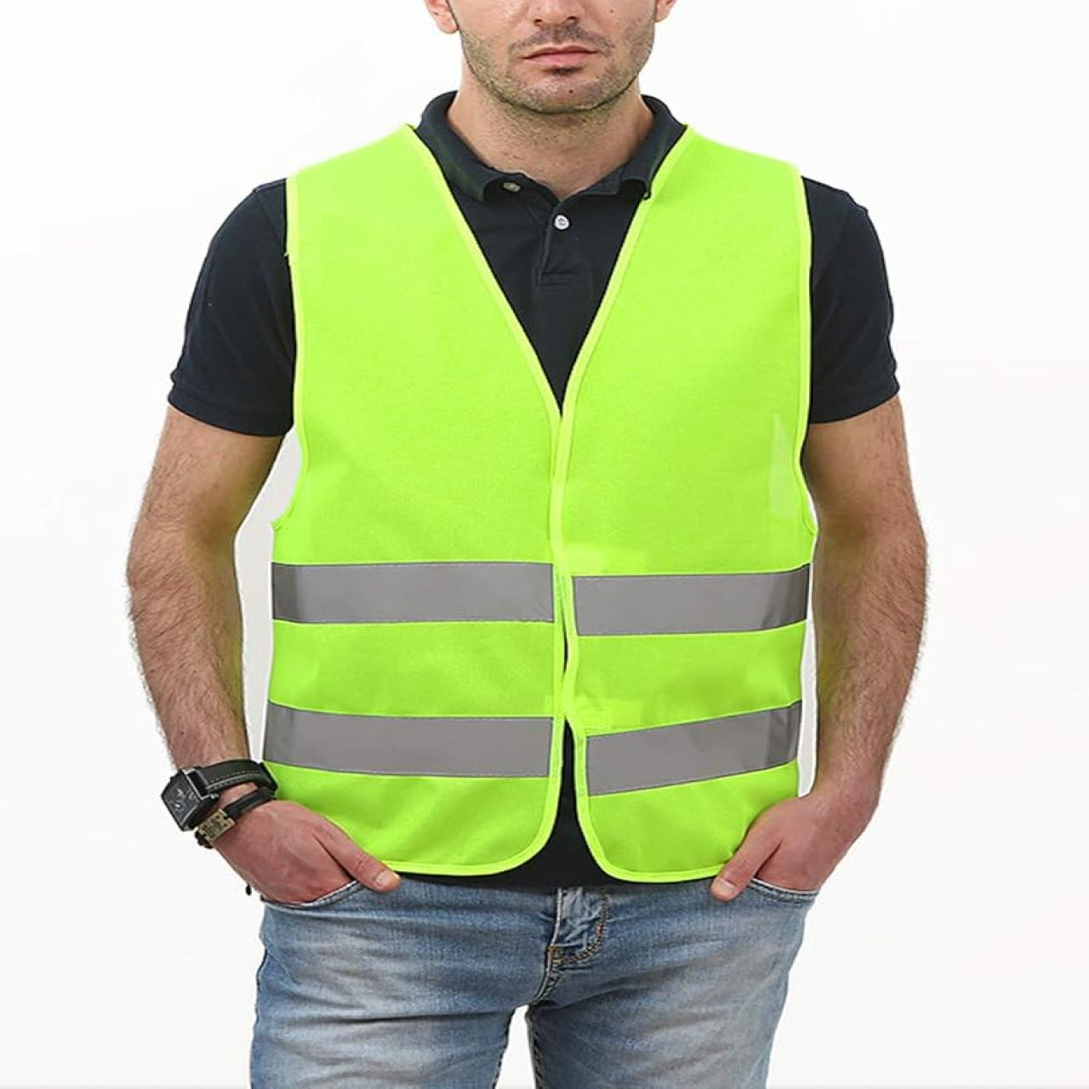Person: (112, 0, 978, 1087)
Safety_Vest: (262, 117, 811, 885)
